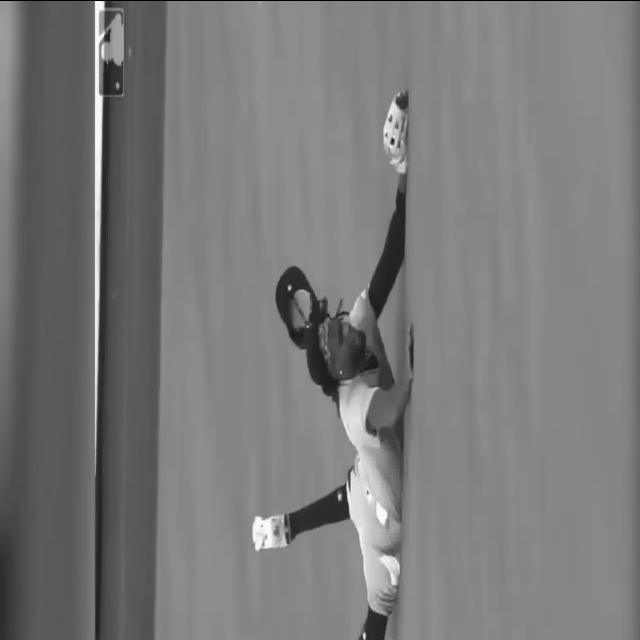baseball_glove: (384, 90, 410, 172)
shoe: (250, 508, 286, 554)
